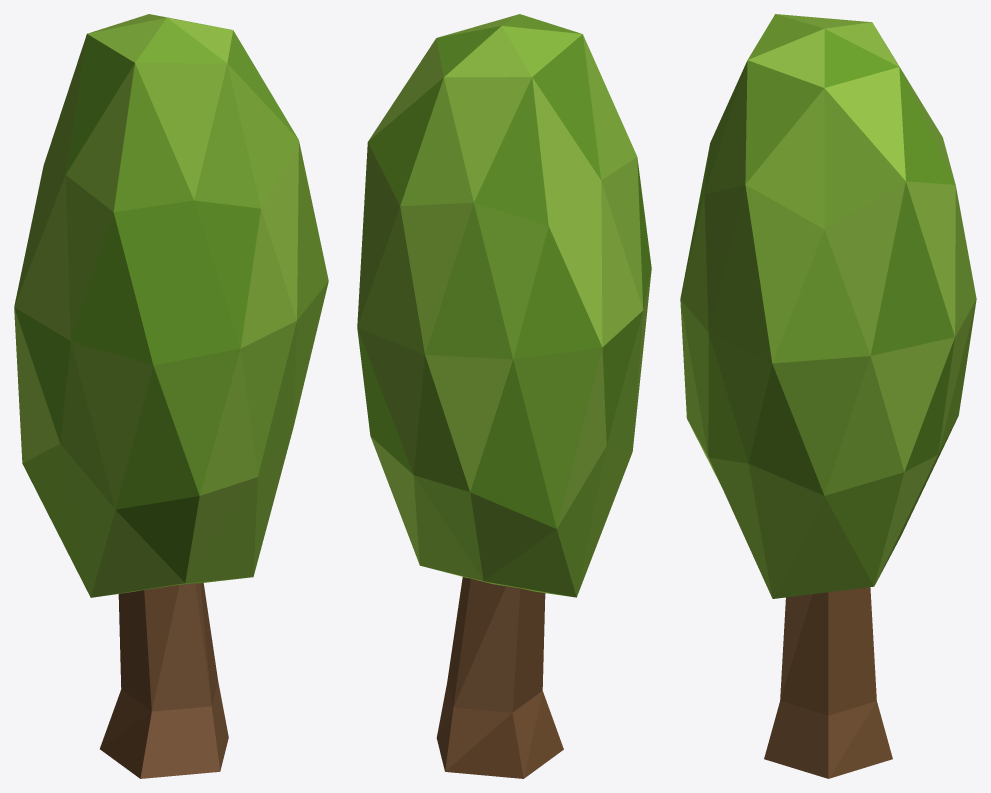
Rendered from Poplar.fbx.
The picture shows the model from 3 angles, left to right: view 1: azimuth 30°, elevation 25°; view 2: azimuth 150°, elevation 25°; view 3: azimuth 270°, elevation 25°; orthographic projection. The views are drawn at different scales.
Parts seen in each view (by area): view 1: Asset_Poplar; view 2: Asset_Poplar; view 3: Asset_Poplar.
Part boxes in pixels (left/top/right/bottom): Asset_Poplar: left=14, top=14, right=328, bottom=778; Asset_Poplar: left=357, top=14, right=651, bottom=778; Asset_Poplar: left=680, top=14, right=976, bottom=778.
Bounding box in the file's own units: 2.05 × 5.5 × 2.05.
